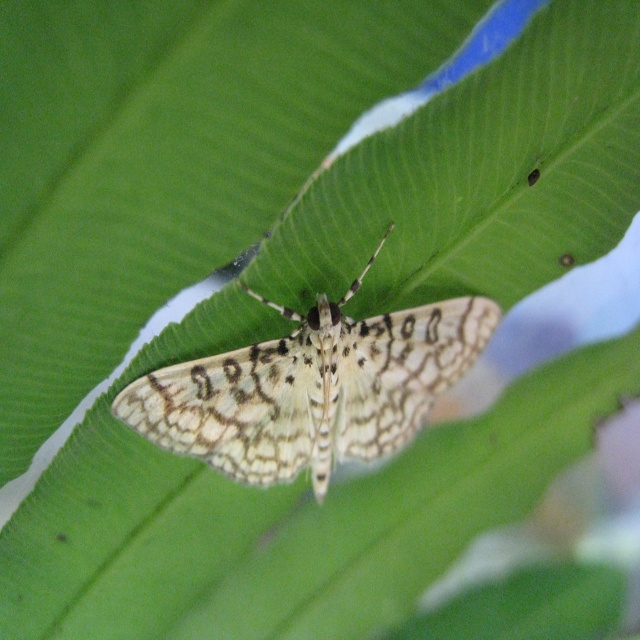Butterfly: (122, 214, 502, 526)
